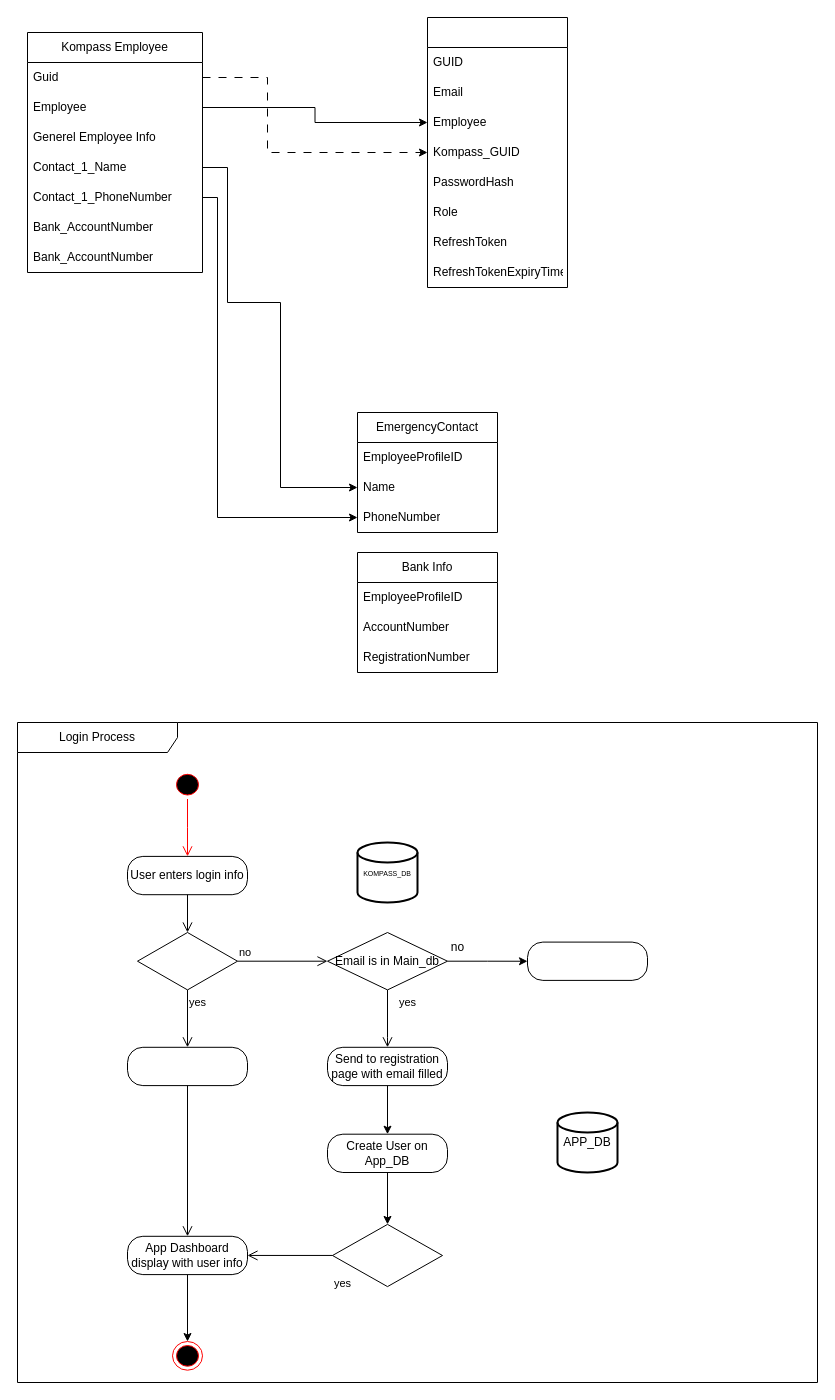
The diagram is 835 pixels wide and 1400 high, and some of its shapes have lost their labels. The shapes that lost their labels are listed below. From the top down, each one's box as (x1, y1, x2, y2) in pixels, then its label:
(426, 16, 568, 288): App Profile
(136, 932, 238, 990): Info is correct
(526, 941, 648, 980): Kontakt IT
(126, 1046, 248, 1086): Client Sucessfully logs in
(332, 1223, 442, 1287): Registered Successfully
